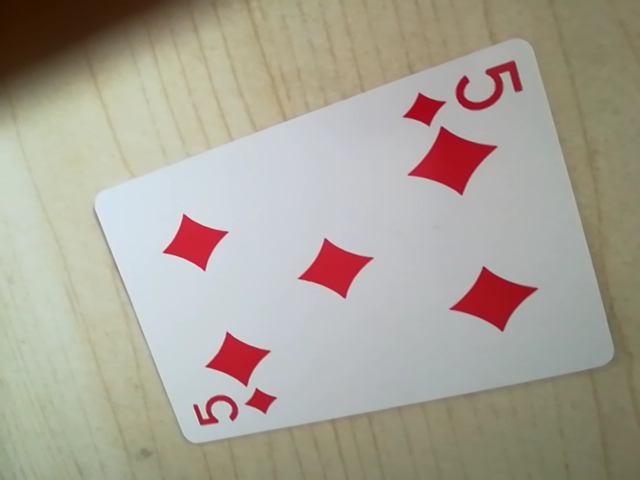fk 5: (400, 57, 522, 129), (189, 382, 281, 437)
